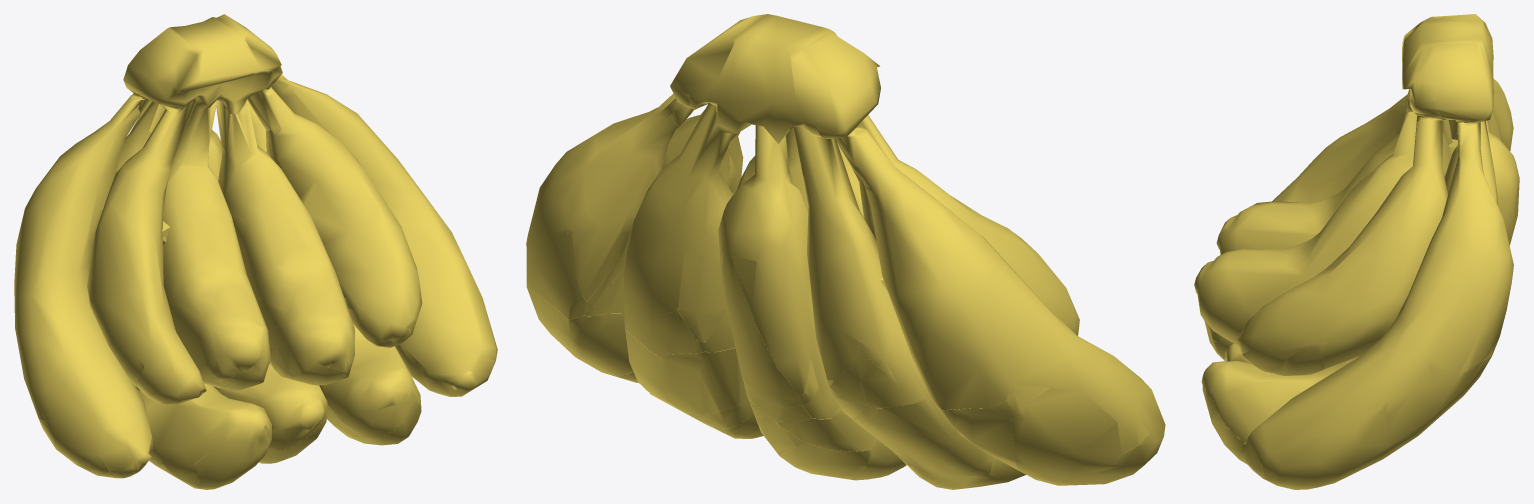
The model's file is banana.glb.
3 views of the same model, side by side, from view 1: azimuth 30°, elevation 25°; view 2: azimuth 150°, elevation 25°; view 3: azimuth 270°, elevation 25° (orthographic). The views are drawn at different scales.
Visible parts, largest first — view 1: Banana_Whole, Shard.067, Shard.099, Shard.009, Shard.038, Shard.010, Shard.077, Shard.064, Shard.078, Shard.014, Shard.126, Shard.047 (+4 smaller); view 2: Banana_Whole, Shard.041, Shard.048, Shard.106, Shard.034, Shard.023, Shard.015, Shard.095, Shard.069, Shard.094, Shard.031, Shard.086 (+15 smaller); view 3: Banana_Whole, Shard.095, Shard.007, Shard.069, Shard.139, Shard.076, Shard.066, Shard.010, Shard.078, Shard.015.
Part boxes in pixels (x1,y1,x2,y2): Banana_Whole: [14, 14, 497, 481]; Shard.067: [196, 435, 259, 489]; Shard.099: [327, 392, 415, 438]; Shard.009: [276, 347, 346, 382]; Shard.038: [422, 357, 493, 396]; Shard.010: [331, 400, 421, 445]; Shard.077: [221, 358, 269, 390]; Shard.064: [268, 420, 311, 450]; Shard.078: [247, 65, 282, 131]; Shard.014: [99, 447, 138, 477]; Shard.126: [348, 309, 410, 347]; Shard.047: [215, 91, 255, 154]; Banana_Whole: [526, 14, 1165, 465]; Shard.041: [1011, 388, 1120, 482]; Shard.048: [882, 277, 1017, 410]; Shard.106: [852, 398, 993, 476]; Shard.034: [733, 256, 810, 395]; Shard.023: [661, 348, 748, 413]; Shard.015: [720, 253, 800, 408]; Shard.095: [526, 281, 629, 376]; Shard.069: [526, 219, 586, 319]; Shard.094: [678, 251, 725, 342]; Shard.031: [940, 408, 1019, 470]; Shard.086: [774, 408, 877, 451]; Banana_Whole: [1194, 14, 1519, 467]; Shard.095: [1381, 355, 1492, 459]; Shard.007: [1261, 406, 1389, 489]; Shard.069: [1426, 280, 1511, 371]; Shard.139: [1272, 348, 1323, 375]; Shard.076: [1199, 300, 1252, 344]; Shard.066: [1238, 339, 1301, 373]; Shard.010: [1210, 409, 1247, 464]; Shard.078: [1402, 83, 1448, 160]; Shard.015: [1499, 192, 1516, 245].
Bounding box in the file's own units: 9.08 × 7.51 × 5.46.
